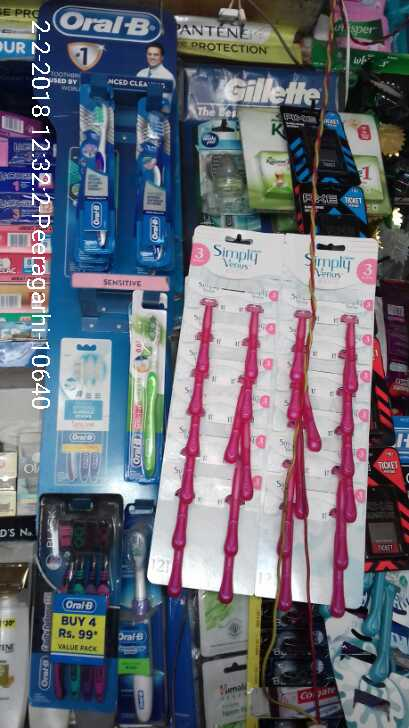oralb: (34, 511, 111, 709), (121, 511, 159, 717), (74, 97, 118, 269), (133, 114, 177, 266), (134, 320, 163, 480)
